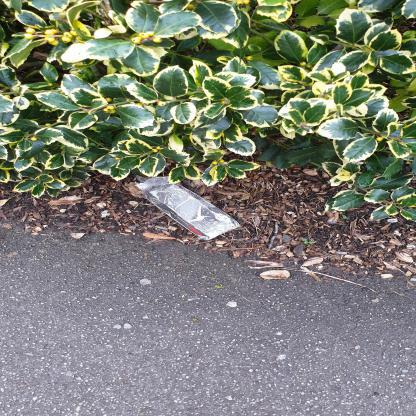plastik: (138, 178, 242, 243)
